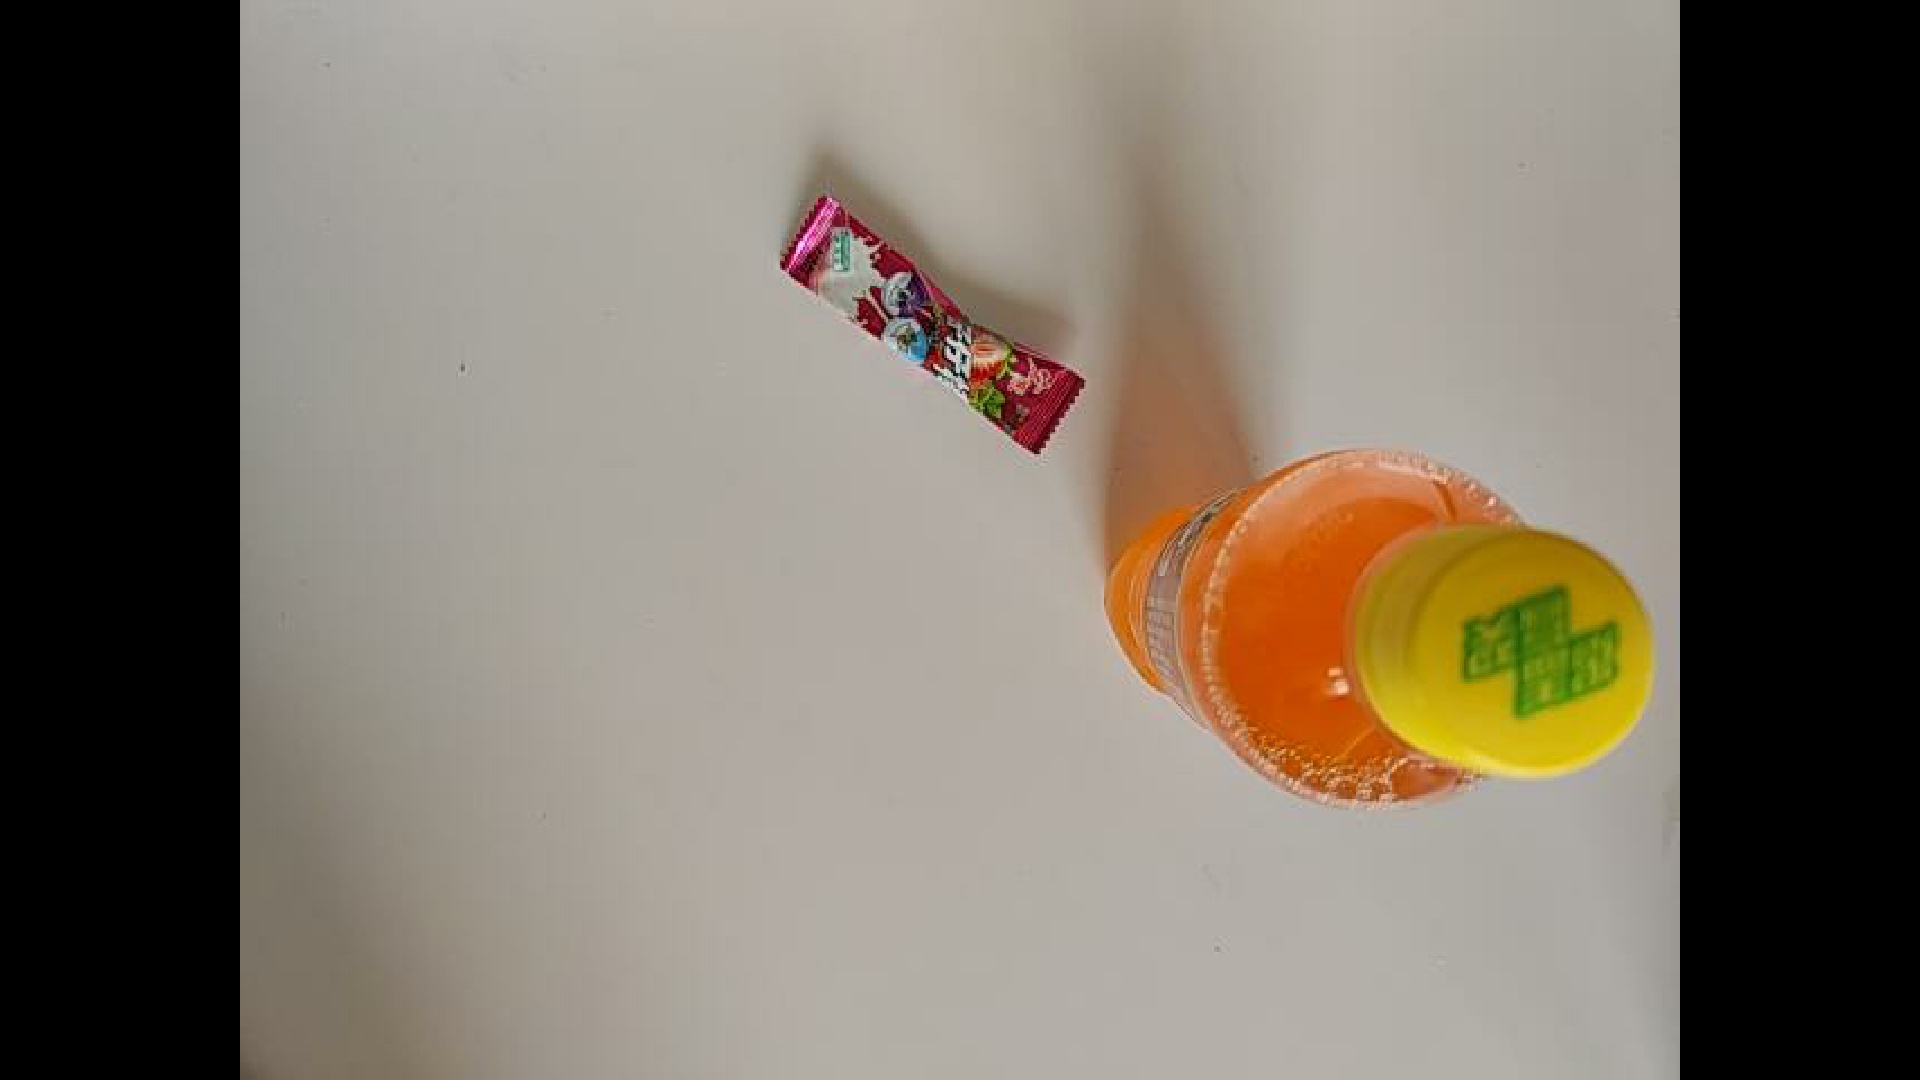fenta: (1102, 446, 1656, 816)
sugar: (723, 185, 1096, 376)
